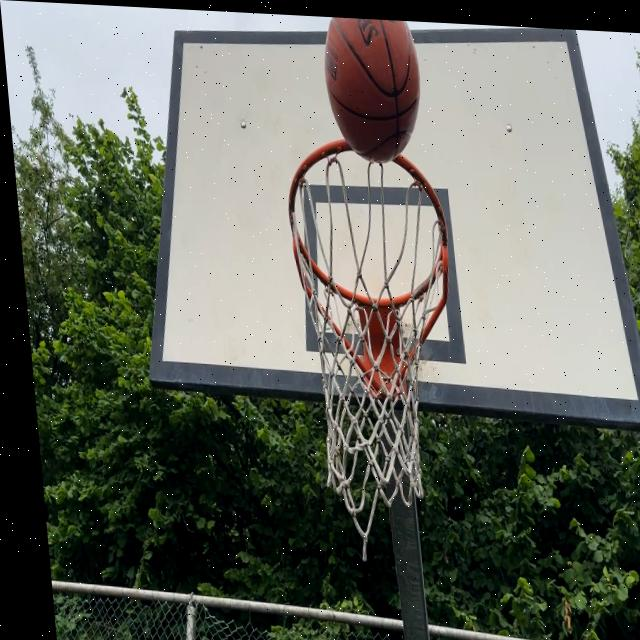Basketball: (322, 17, 426, 159)
